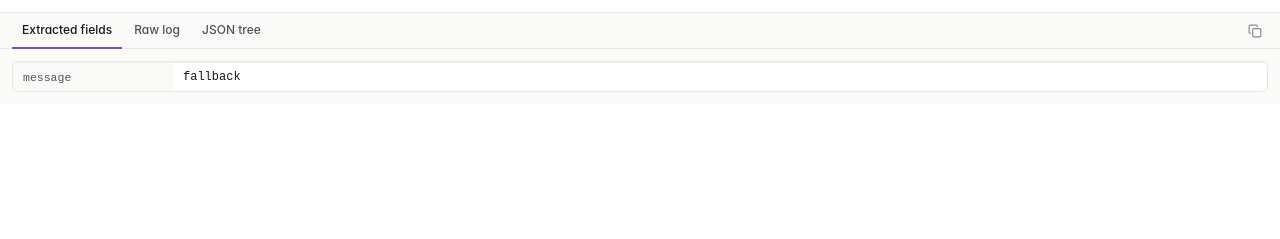
expanded log JSON tree › falls back to fields for raw log plain text
This screenshot has width=1280, height=239.
Click the button "JSON tree": (231, 31) [192,13,271,49]
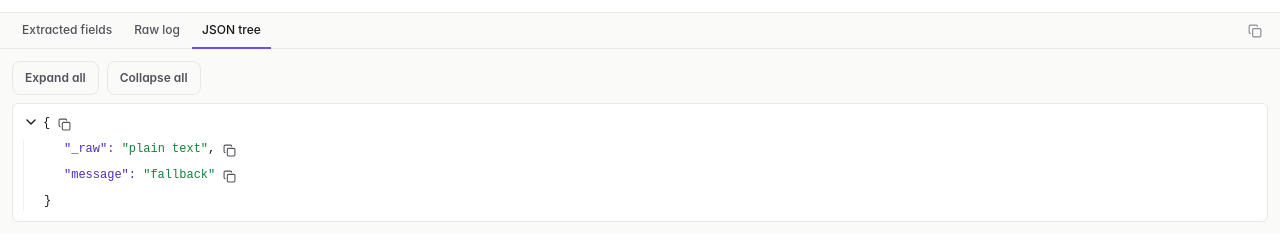
Expected: the text "\"fallback\"" is shown, [143,168,215,182]
